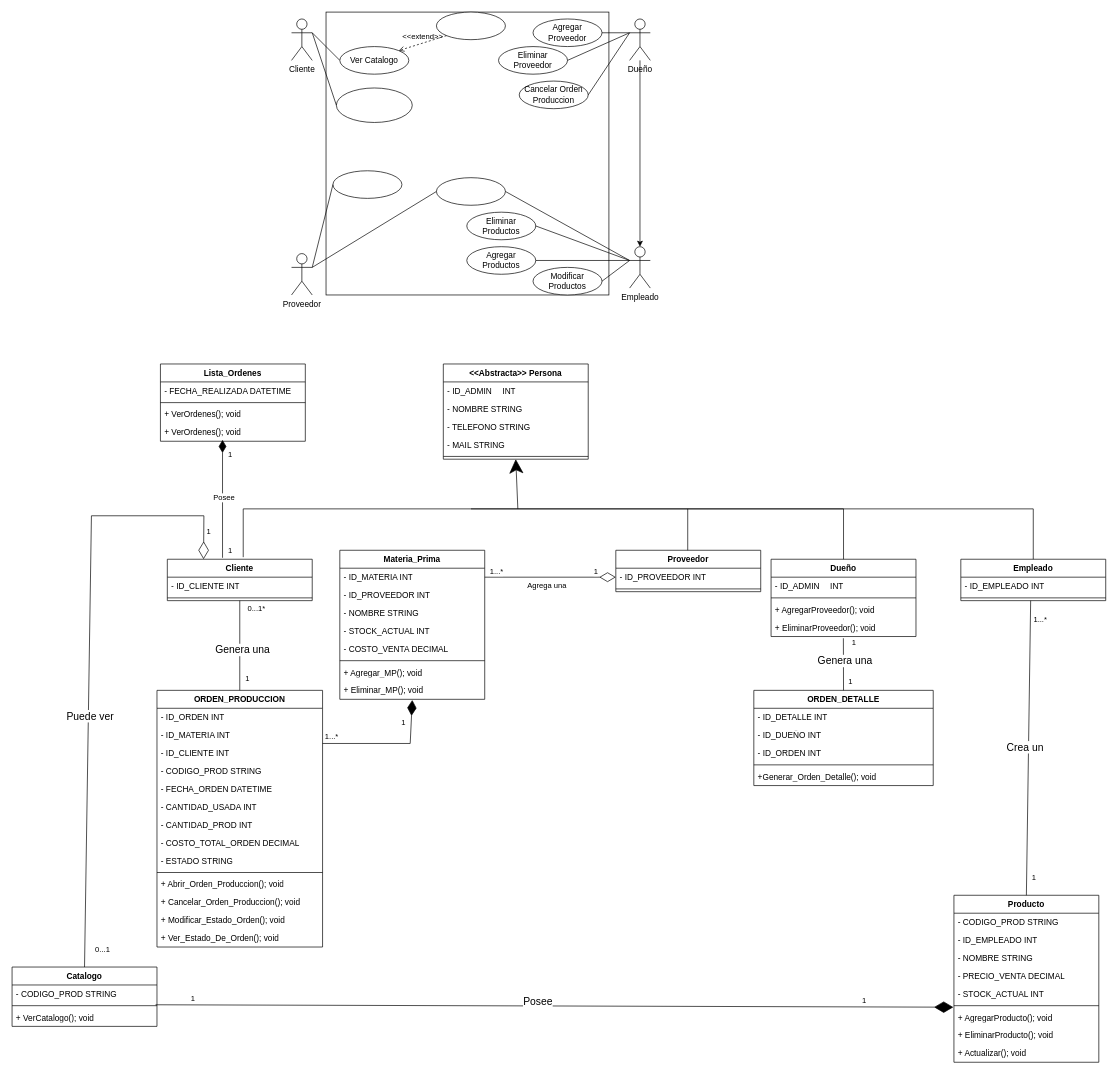
The diagram is 1118 pixels wide and 1076 high, and some of its shapes have lost their labels. Each missing label, with the centre of its shape:
"Agregar Materias Primas" belongs at (367,184).
"Comprar Producto" belongs at (470,25).
"Generar Orden de Produccion" belongs at (374,104).
"Ver Productos" belongs at (470,191).
